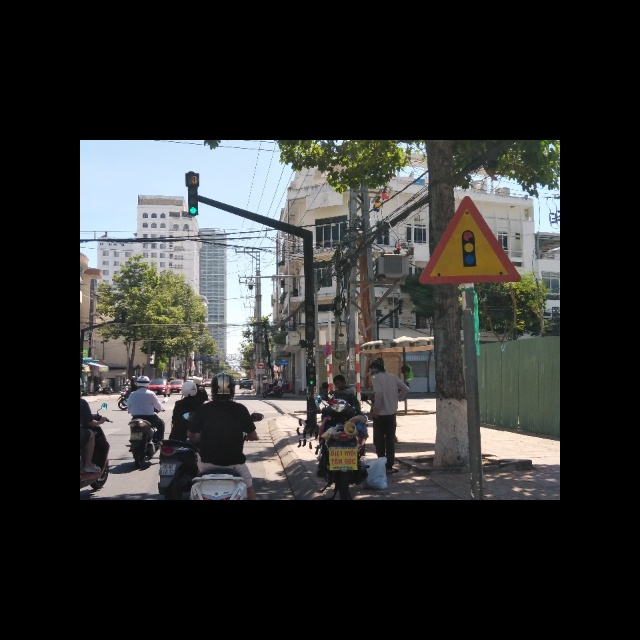Giao nhau có tín hiệu đèn: (417, 196, 520, 284)
